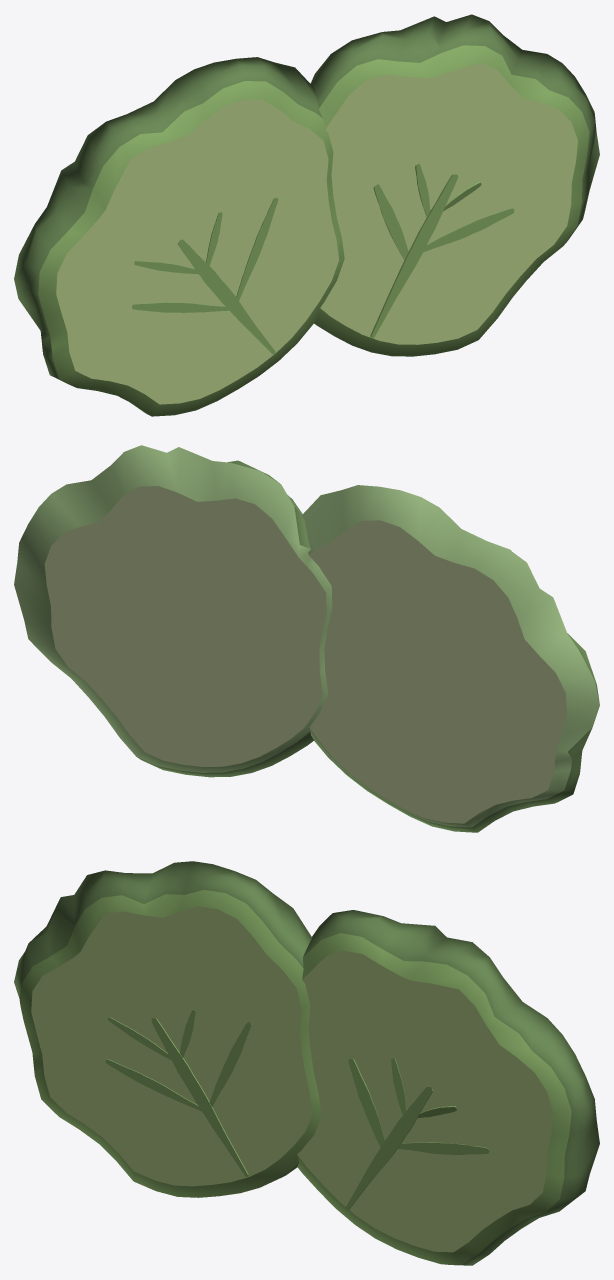
Rendered from SM_Lechuga_01.fbx.
The picture shows the model from 3 angles, top to bottom: view 1: azimuth 30°, elevation 25°; view 2: azimuth 150°, elevation 25°; view 3: azimuth 330°, elevation 25°; orthographic projection.
Parts seen in each view (by area): view 1: nurbsToPoly2, nurbsToPoly4, pCube4, pCube1, pCube5, pCube6, pCube2, pCube3; view 2: nurbsToPoly4, nurbsToPoly2; view 3: nurbsToPoly2, nurbsToPoly4, pCube1, pCube4, pCube6, pCube5, pCube3, pCube2.
Boxes of the visible parts, box(x1,y1,x2,y2) form: nurbsToPoly2: box(14, 57, 344, 416); nurbsToPoly4: box(310, 14, 599, 356); pCube4: box(370, 174, 458, 338); pCube1: box(178, 239, 275, 354); pCube5: box(423, 208, 514, 252); pCube6: box(373, 184, 408, 259); pCube2: box(236, 197, 278, 300); pCube3: box(132, 302, 228, 312); nurbsToPoly4: box(14, 445, 332, 777); nurbsToPoly2: box(301, 485, 599, 832); nurbsToPoly2: box(14, 861, 321, 1197); nurbsToPoly4: box(297, 910, 599, 1265); pCube1: box(151, 1018, 248, 1176); pCube4: box(345, 1085, 433, 1209); pCube6: box(348, 1059, 384, 1147); pCube5: box(397, 1142, 489, 1154); pCube3: box(105, 1059, 201, 1111); pCube2: box(209, 1022, 251, 1106).
Bounding box in the file's own units: 5.08 × 2.83 × 0.3102.
